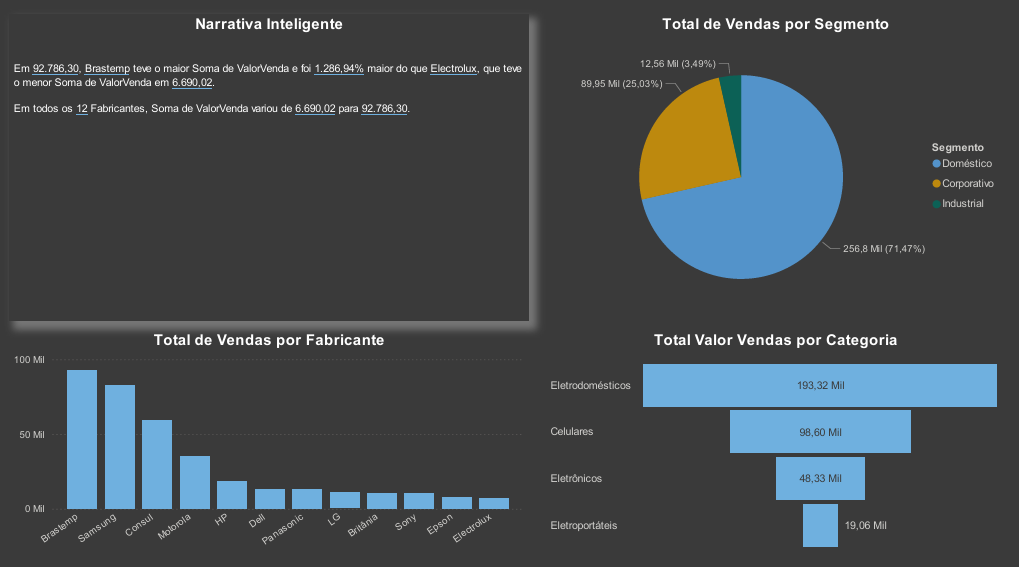

What the dashboard file says about the page in this screenshot:
{"tool":"powerbi","page":{"name":"Narrativa Inteligente","canvas":[1280,720],"ordinal":1},"visuals":[{"type":"pieChart","title":"Total de Vendas por Segmento","fields":{"Y":["Sum(Vendas.ValorVenda)"],"Category":["Vendas.Segmento"]},"box":[687.6,21.8,574.5,384.3],"z":0},{"type":"columnChart","title":"Total de Vendas por Fabricante","fields":{"Category":["Vendas.Fabricante"],"Y":["Sum(Vendas.ValorVenda)"]},"box":[17.1,417,649.4,289.4],"z":1000},{"type":"funnel","title":"Total Valor Vendas por Categoria","fields":{"Category":["Vendas.Categoria"],"Y":["Sum(Vendas.ValorVenda)"]},"box":[688.1,417,574.2,289.4],"z":2000},{"type":"textbox","title":"Narrativa Inteligente","box":[17,22,649,384],"z":3000}]}

Visuals, with their boxes in screenshot pixels (x1, y1, x2, y2), scaled from the page's 1280x720 canvas onto the 1019x567 screenshot:
"Total de Vendas por Segmento" pieChart: locate(547, 17, 1005, 320)
"Total de Vendas por Fabricante" columnChart: locate(14, 328, 531, 556)
"Total Valor Vendas por Categoria" funnel: locate(548, 328, 1005, 556)
"Narrativa Inteligente" textbox: locate(14, 17, 530, 320)
